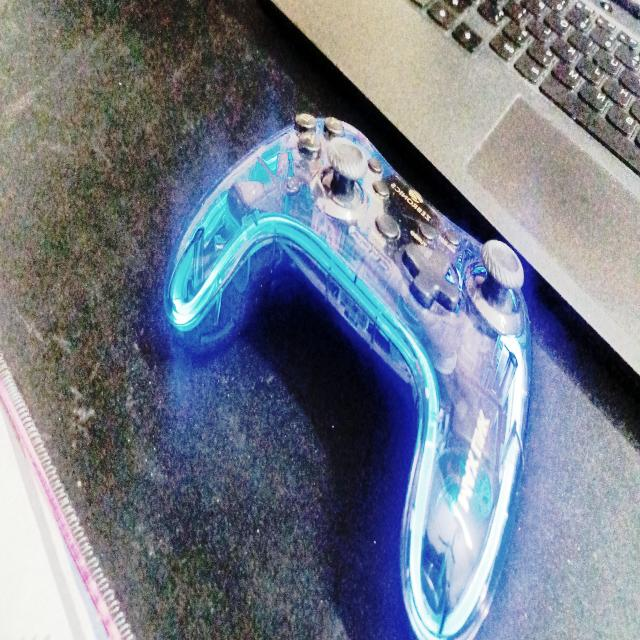gamepad: (162, 110, 535, 640)
